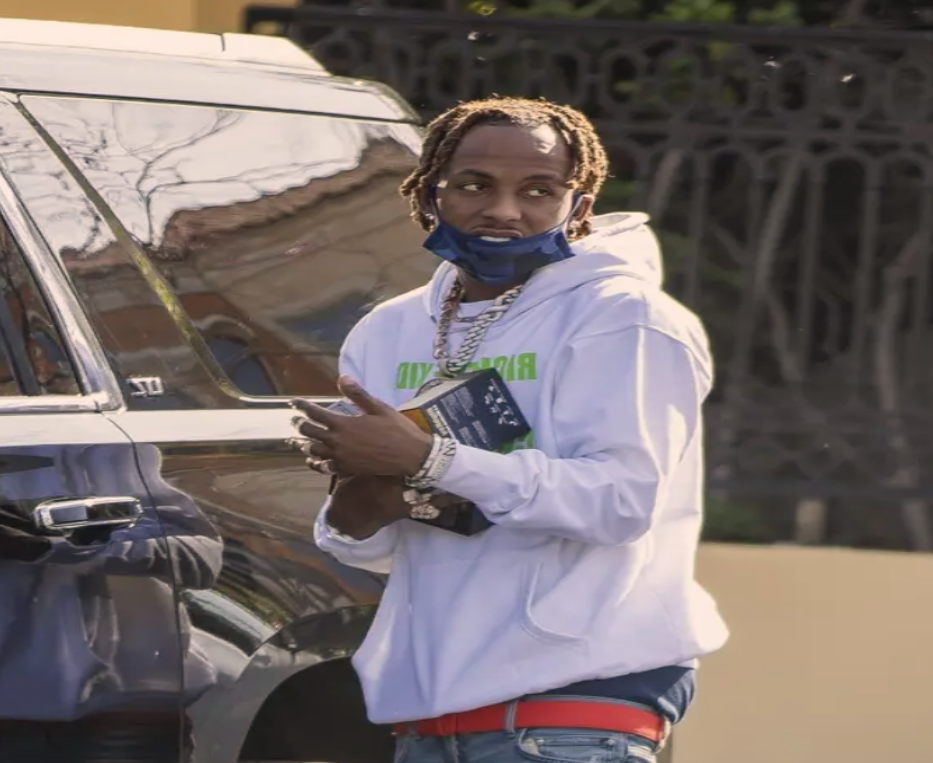mask_weared_incorrect: (402, 97, 606, 288)
